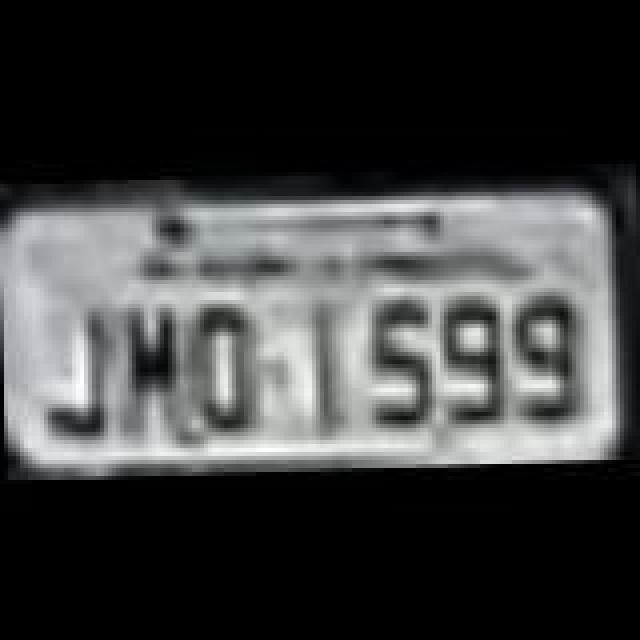1: (294, 294, 346, 426)
5: (362, 292, 438, 436)
9: (432, 288, 512, 432), (506, 288, 582, 432)
J: (42, 296, 118, 440)
M: (122, 298, 182, 446)
O: (190, 296, 258, 440)
